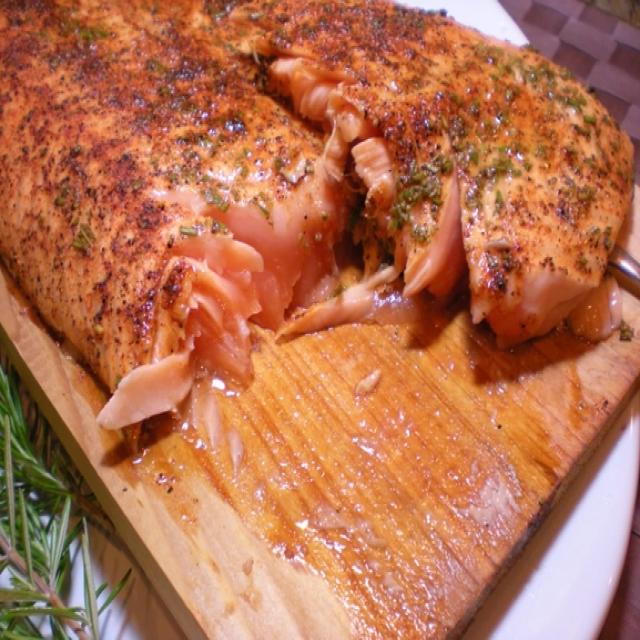熟制海鲜: (13, 8, 629, 458)
